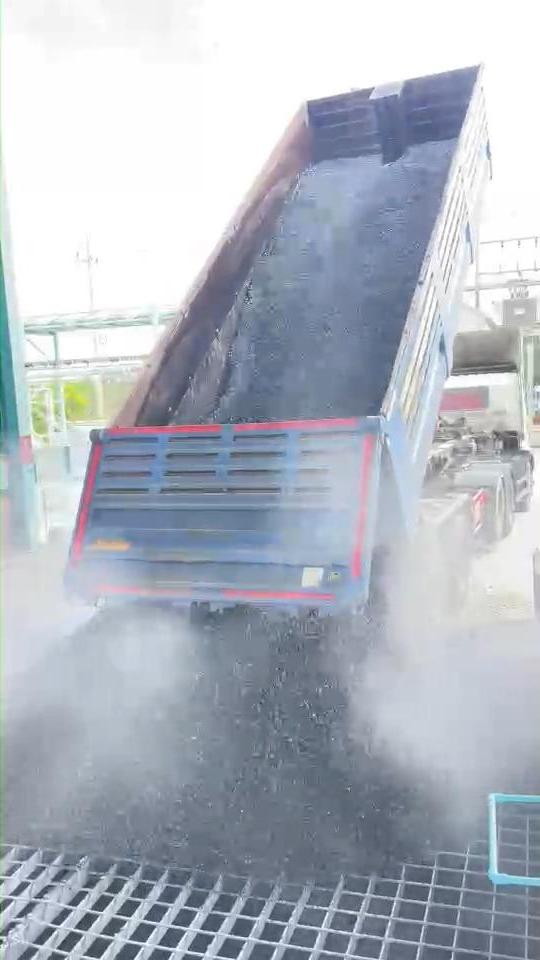gravel: (3, 604, 439, 879), (175, 140, 455, 421)
